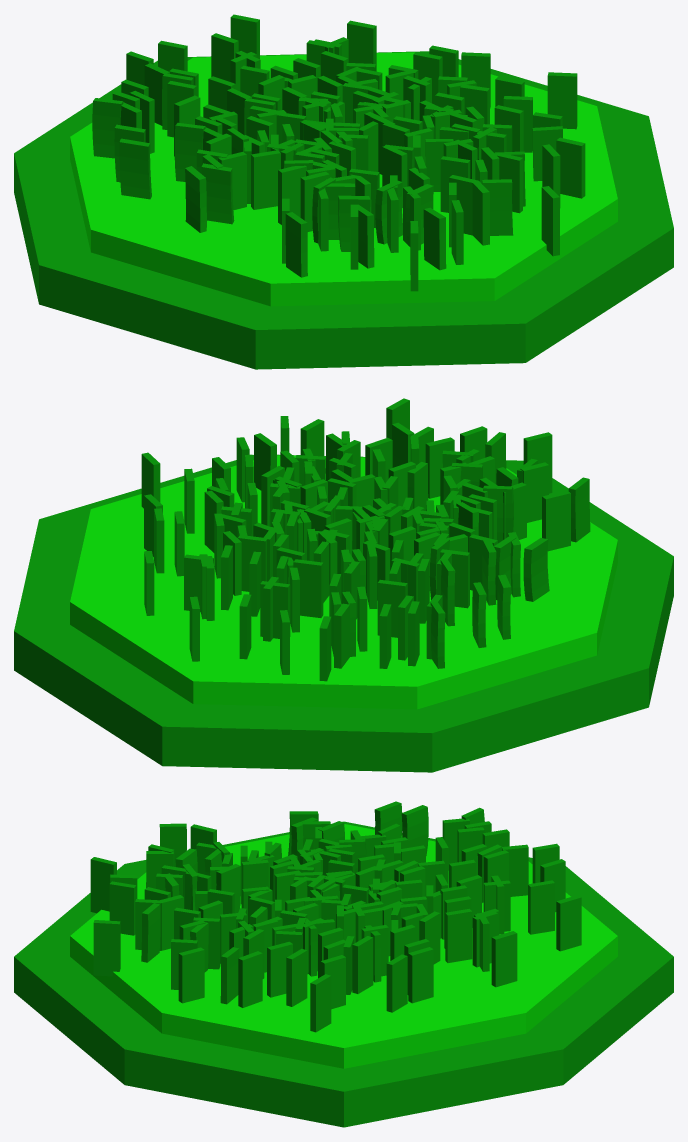
The model's file is CardboardGrass.fbx.
3 views of the same model, one above another, from view 1: azimuth 30°, elevation 25°; view 2: azimuth 150°, elevation 25°; view 3: azimuth 270°, elevation 25° (orthographic). The views are drawn at different scales.
Parts seen in each view (by area): view 1: Cube.005; view 2: Cube.005; view 3: Cube.005.
Part boxes in pixels (x1=…): Cube.005: x1=14, y1=14, x2=673, y2=369; Cube.005: x1=14, y1=398, x2=673, y2=772; Cube.005: x1=14, y1=801, x2=673, y2=1127.
Bounding box in the file's own units: 621 × 114 × 641.
